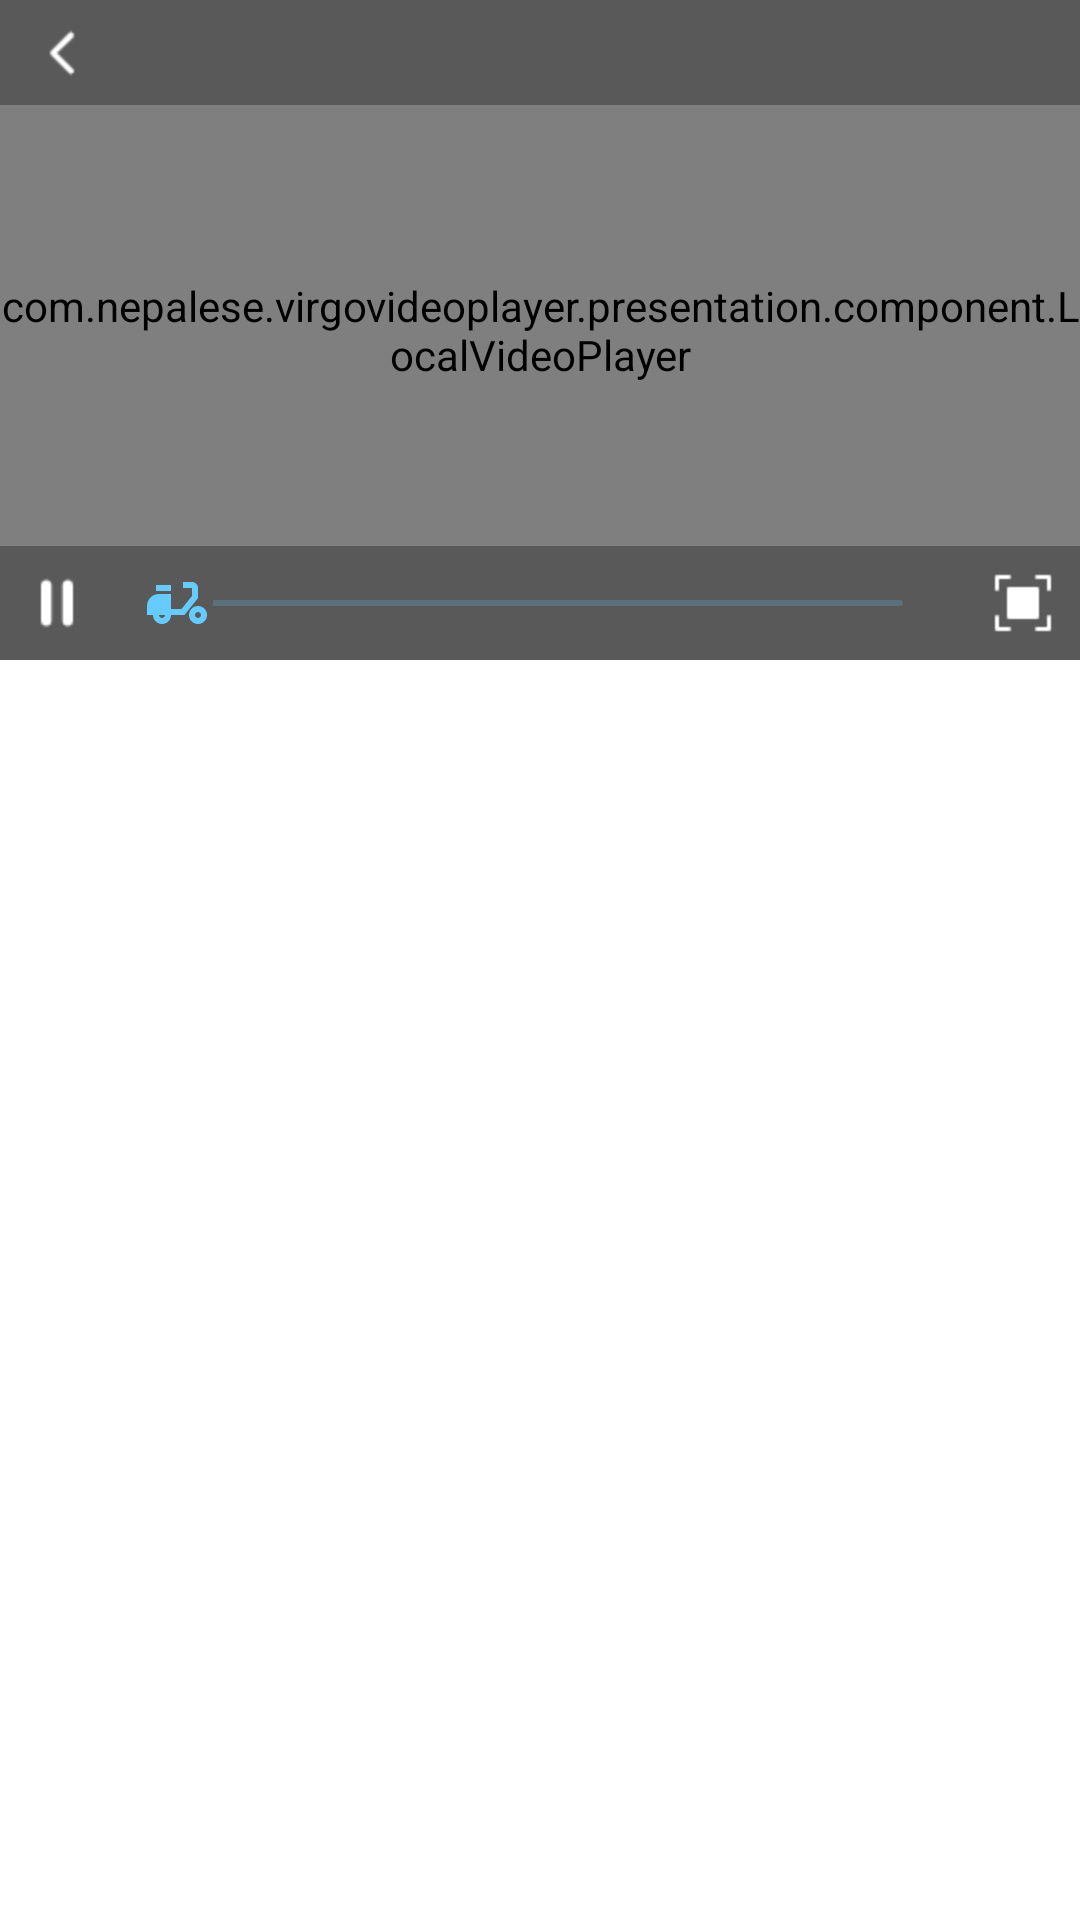

Where to tap for icons on this 1080x1920 app screen, as (x=x, y=y):
back wthie: (x=62, y=53)
full screen: (x=1023, y=603)
